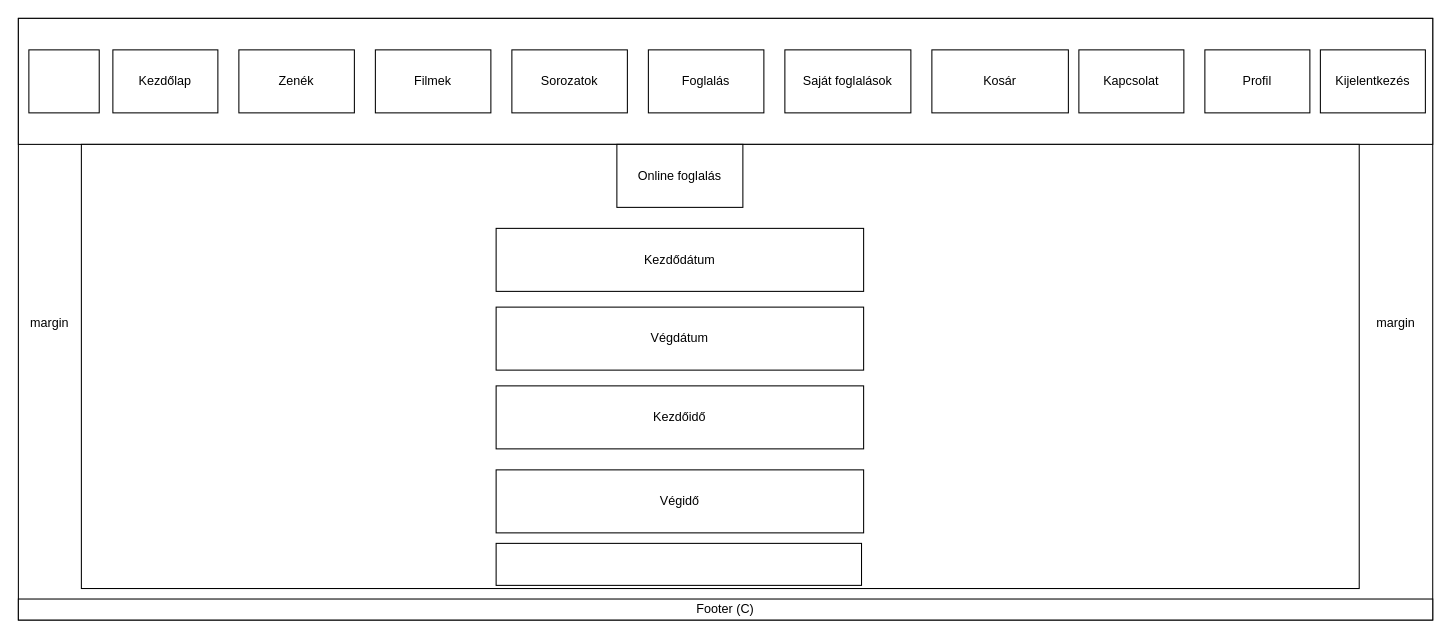
The diagram is 1451 pixels wide and 638 high, and some of its shapes have lost their labels. Here are the shapes that lost their labels. From the top down, the centre of each, then its label:
the point at 63,81: Logo (opcionális)
the point at 678,563: Foglalás leadása
